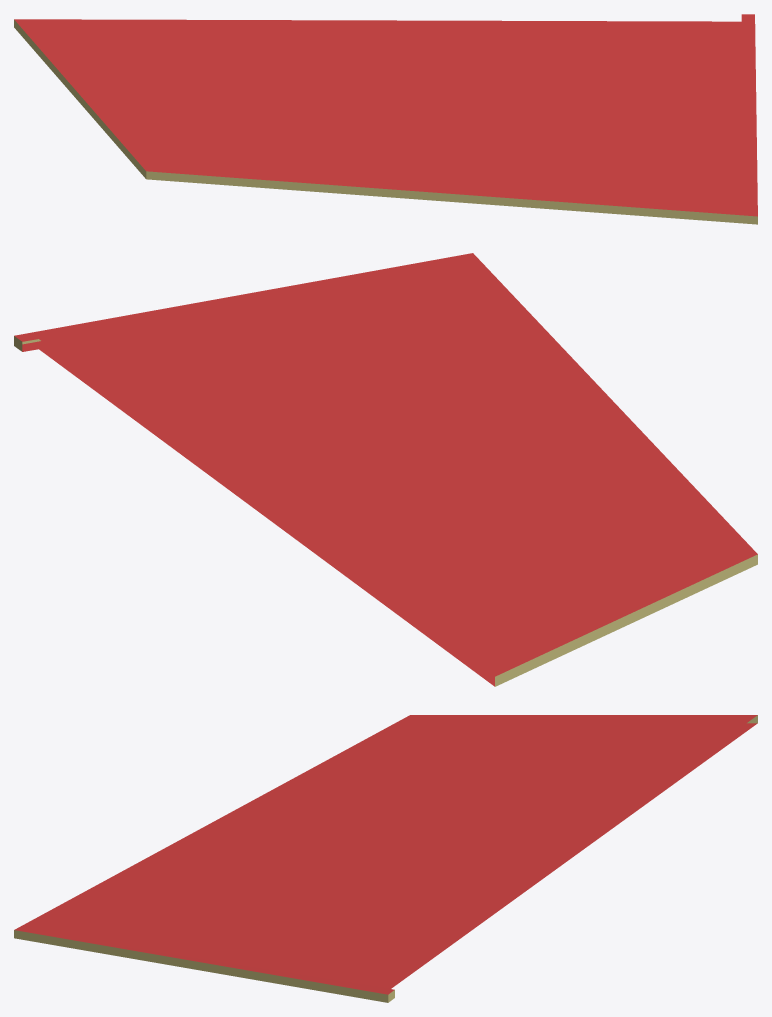
3 views of the same model, one above another, from view 1: azimuth 30°, elevation 25°; view 2: azimuth 150°, elevation 25°; view 3: azimuth 270°, elevation 25° (orthographic). The views are drawn at different scales.
Bounding box in the file's own units: 7.75 × 8.16 × 0.404.
